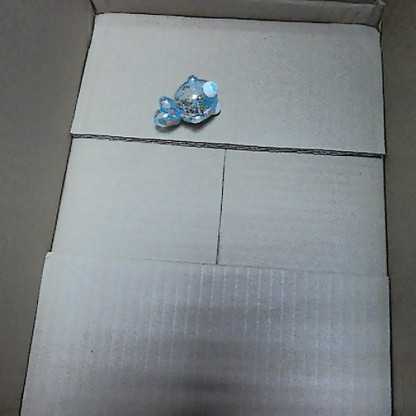bluefish: (154, 67, 220, 134)
